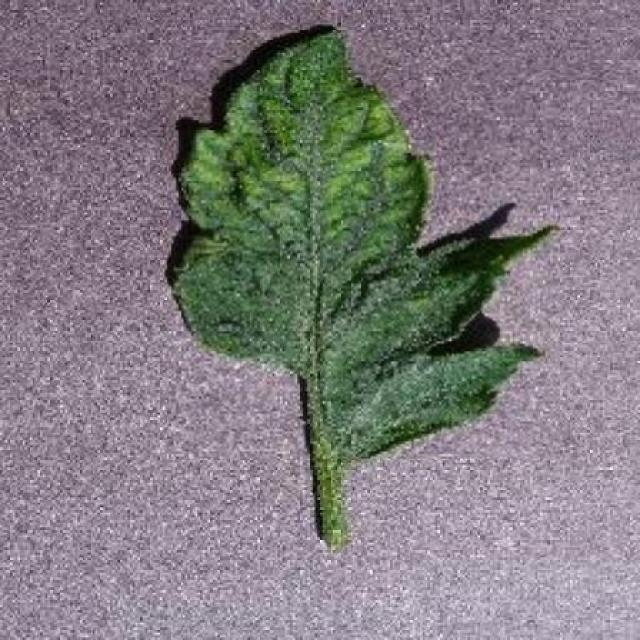Mosaic Virus: (167, 30, 560, 459)
